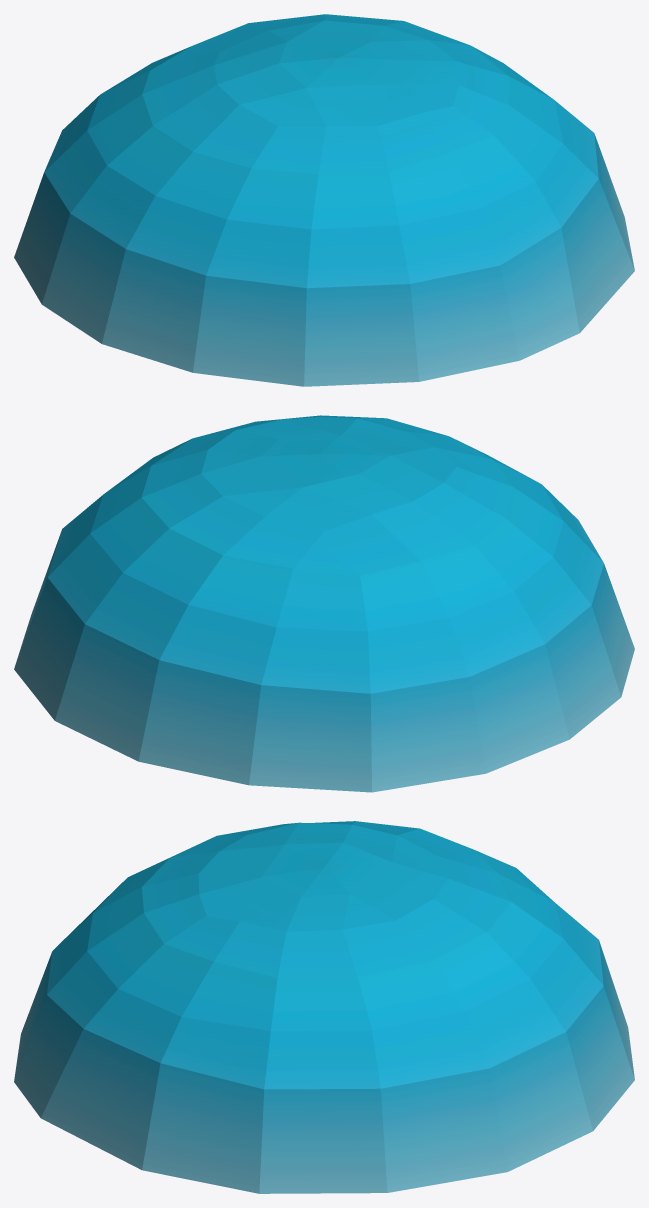
Rendered from skybox.obj.
3 renders of one model, top to bottom at view 1: azimuth 30°, elevation 25°; view 2: azimuth 150°, elevation 25°; view 3: azimuth 270°, elevation 25°, orthographic.
Parts seen in each view (by area): view 1: rpgpp_lt_sky_01_0; view 2: rpgpp_lt_sky_01_0; view 3: rpgpp_lt_sky_01_0.
Part boxes in pixels (x1,y1,x2,y2): rpgpp_lt_sky_01_0: [14, 14, 634, 386]; rpgpp_lt_sky_01_0: [14, 415, 634, 792]; rpgpp_lt_sky_01_0: [14, 821, 634, 1193].
Size of the model in its own units: 97.72 by 35.09 by 98.28.
1 material, 1 textured.
